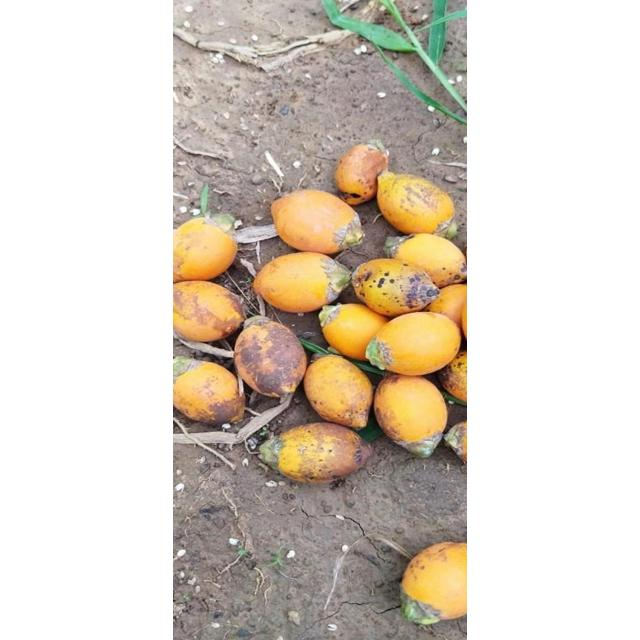good: (256, 422, 374, 482), (253, 252, 351, 314), (270, 190, 364, 254), (366, 312, 460, 376), (374, 372, 448, 453), (234, 318, 308, 398), (399, 542, 465, 624), (302, 355, 374, 429), (350, 259, 440, 317), (376, 172, 456, 234), (173, 357, 244, 425), (384, 234, 466, 290), (173, 280, 244, 344), (320, 303, 390, 362), (174, 217, 238, 281), (334, 141, 390, 205), (438, 349, 467, 405), (258, 436, 284, 472), (173, 355, 200, 383), (382, 235, 411, 257), (209, 213, 237, 233), (368, 139, 388, 159), (460, 291, 466, 345), (173, 268, 185, 284), (326, 346, 342, 354)
